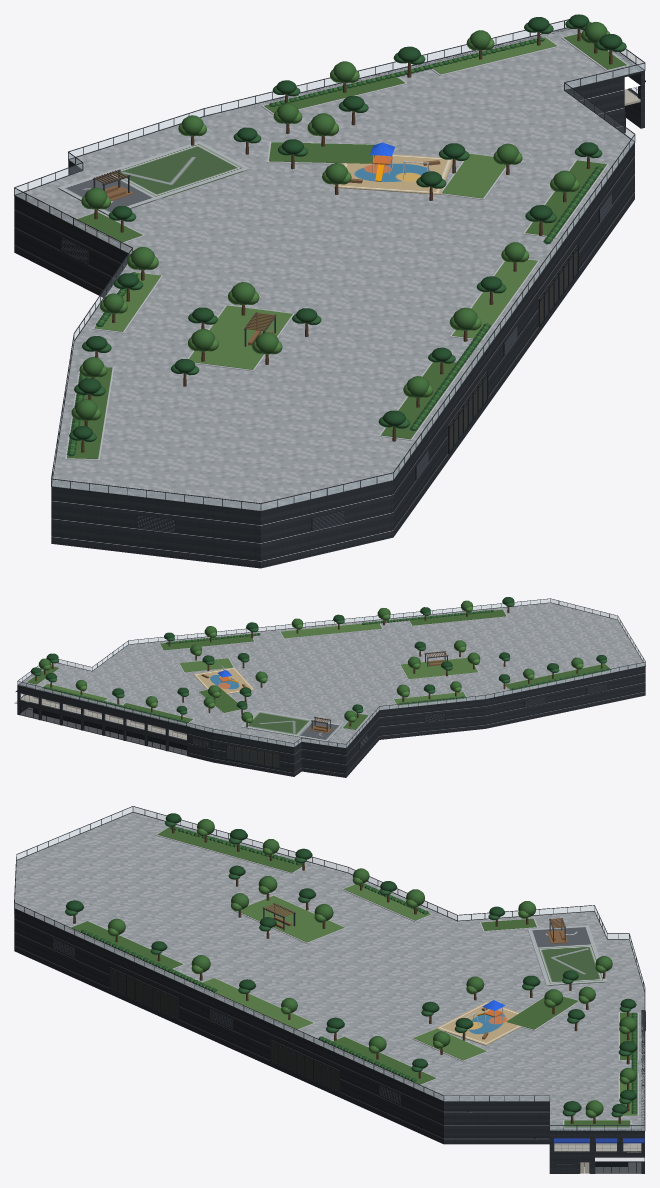
The model's file is 금파힐_북커뮤.glb.
3 views of the same model, one above another, from view 1: azimuth 30°, elevation 25°; view 2: azimuth 150°, elevation 25°; view 3: azimuth 270°, elevation 25° (orthographic). The views are drawn at different scales.
Parts seen in each view (by area): view 1: KumhoParkHills_North_Community_8_4m, North_Rooftop_Park_Landscaping; view 2: KumhoParkHills_North_Community_8_4m, North_Rooftop_Park_Landscaping; view 3: KumhoParkHills_North_Community_8_4m, North_Rooftop_Park_Landscaping.
Part boxes in pixels (<box>): KumhoParkHills_North_Community_8_4m: <box>14,19,645,568</box>; North_Rooftop_Park_Landscaping: <box>58,14,629,460</box>; KumhoParkHills_North_Community_8_4m: <box>14,598,645,777</box>; North_Rooftop_Park_Landscaping: <box>25,597,612,741</box>; KumhoParkHills_North_Community_8_4m: <box>14,806,645,1173</box>; North_Rooftop_Park_Landscaping: <box>65,813,638,1128</box>.
Size of the model in its own units: 136 by 13.25 by 113.
118 materials, 16 textured.
